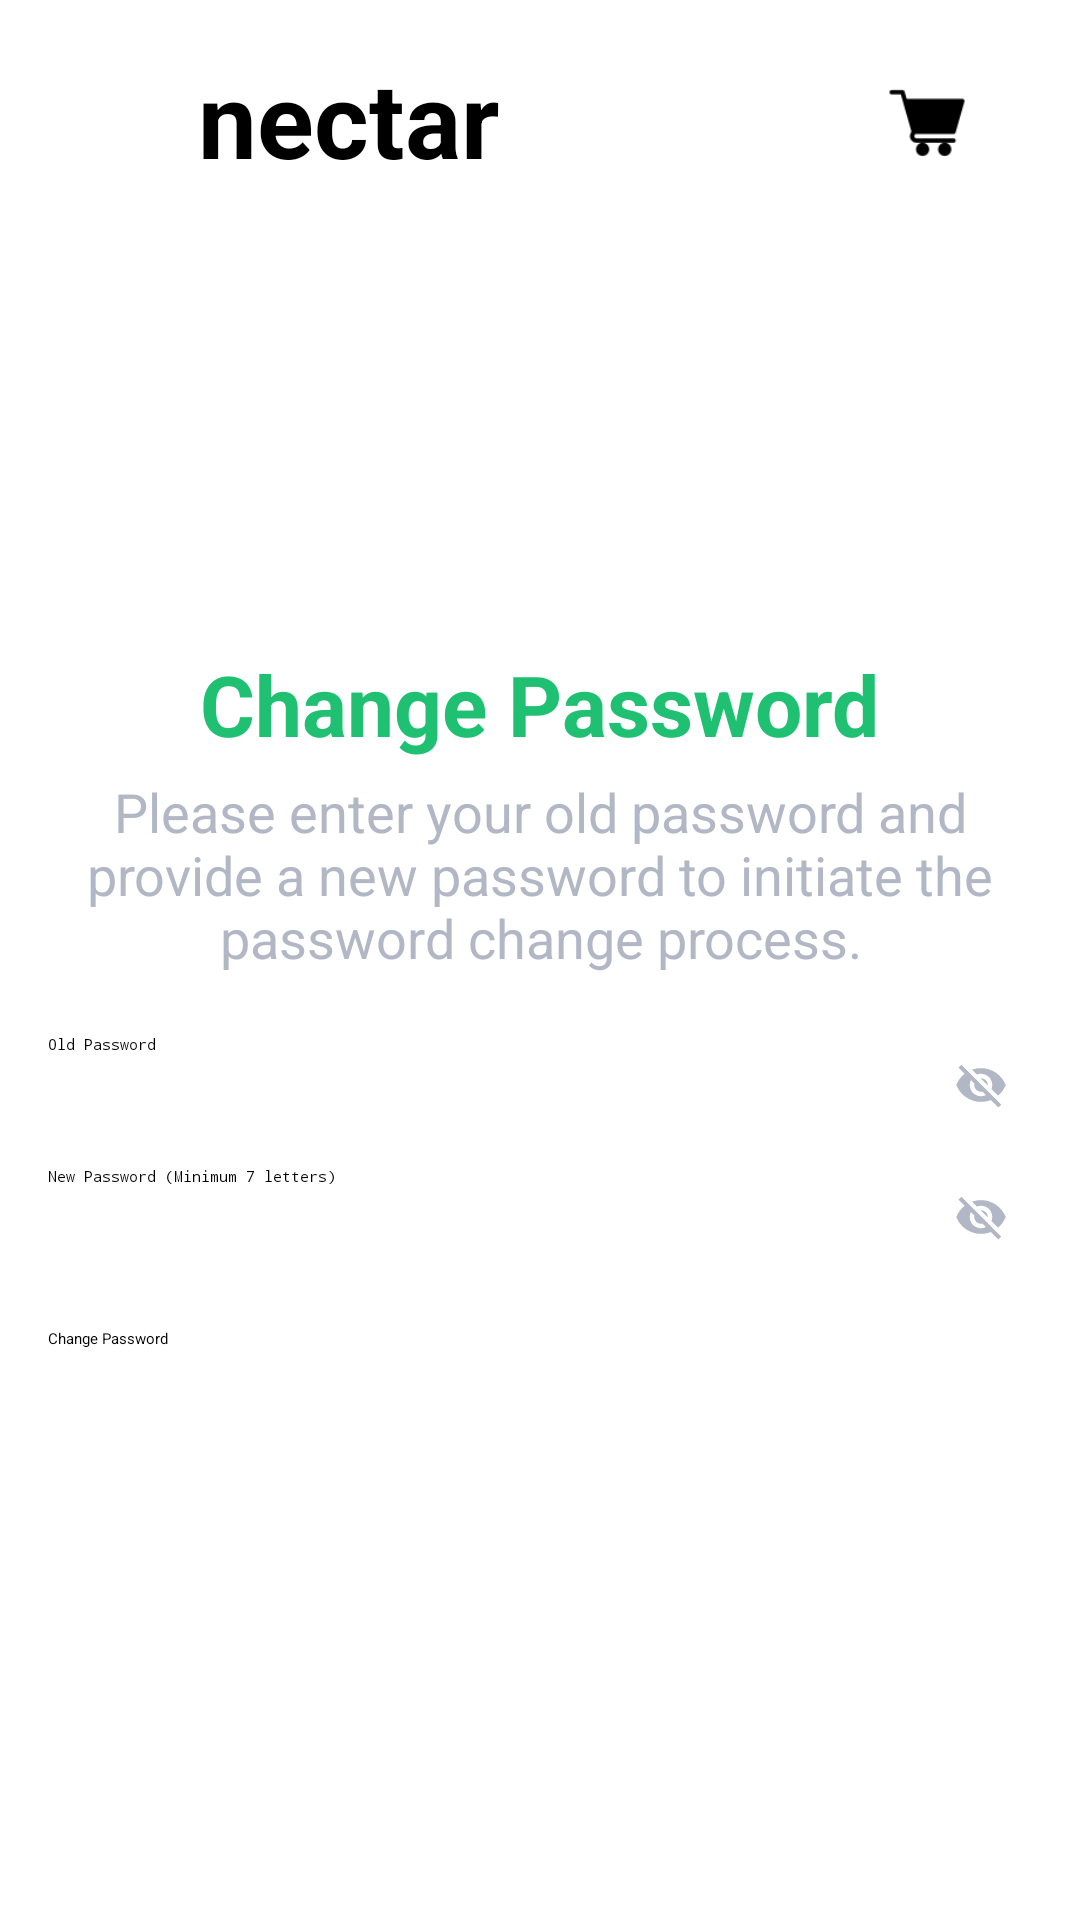

Where icons sit on this 1080*1920 app screen, as (x1, y1, x2, y2):
cart: (889, 89, 965, 156)
Password Visibility Toggle: (956, 1065, 1006, 1107), (956, 1197, 1006, 1239)
